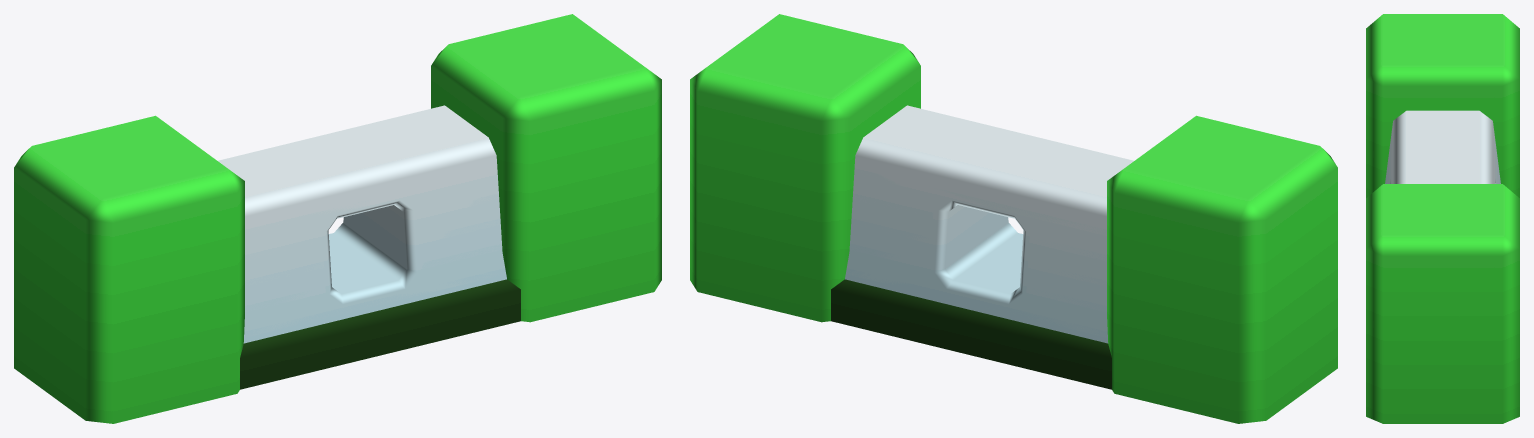
File: Fence_Prop_Green.fbx
3 renders of one model, left to right at view 1: azimuth 30°, elevation 25°; view 2: azimuth 150°, elevation 25°; view 3: azimuth 270°, elevation 25°, orthographic. The views are drawn at different scales.
Parts seen in each view (by area): view 1: Fence_Prop, FencePost_Prop, FenceSeg_Prop; view 2: Fence_Prop, FenceSeg_Prop, FencePost_Prop; view 3: FencePost_Prop, Fence_Prop, FenceSeg_Prop.
Boxes of the visible parts, box(x1,y1,x2,y2) form: Fence_Prop: box(14, 115, 506, 423); FencePost_Prop: box(431, 14, 661, 322); FenceSeg_Prop: box(218, 105, 520, 389); Fence_Prop: box(845, 115, 1337, 423); FenceSeg_Prop: box(831, 105, 1133, 389); FencePost_Prop: box(690, 14, 920, 322); FencePost_Prop: box(1366, 184, 1519, 423); Fence_Prop: box(1366, 14, 1519, 197); FenceSeg_Prop: box(1385, 110, 1500, 183).
Size of what is drawn, in the model's own units: 138 by 50.01 by 38.22.
